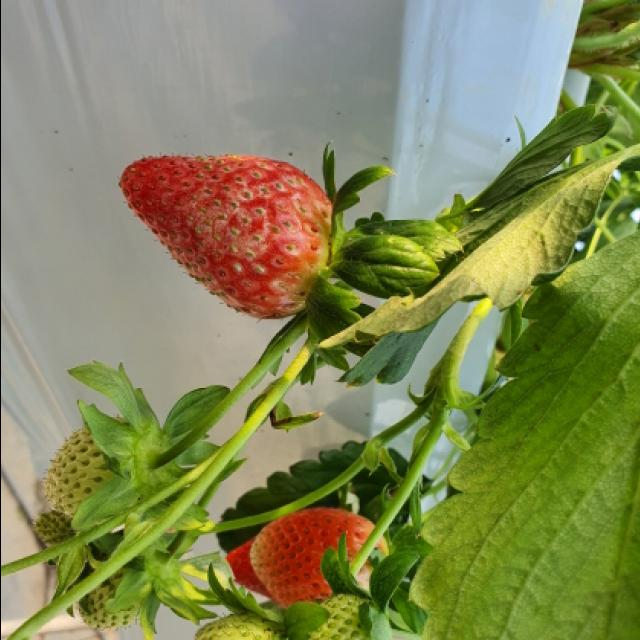Powdery Mildew Fruit: (116, 153, 332, 319)
